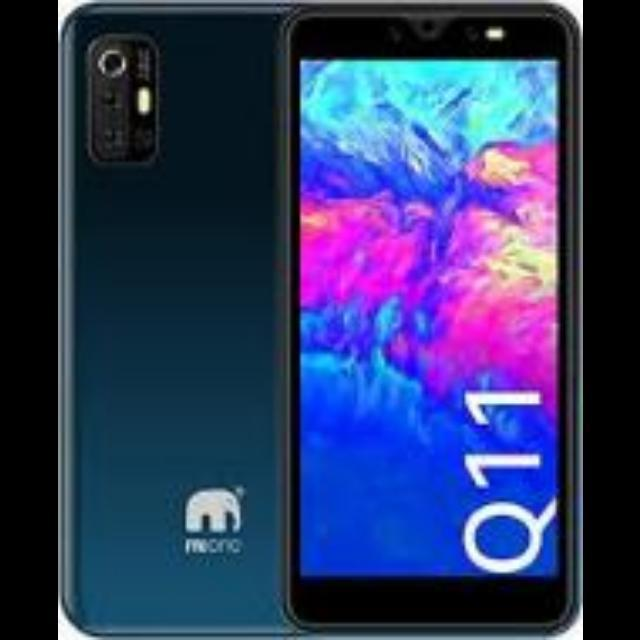PhoneUse: (280, 0, 582, 640), (64, 6, 280, 640)
